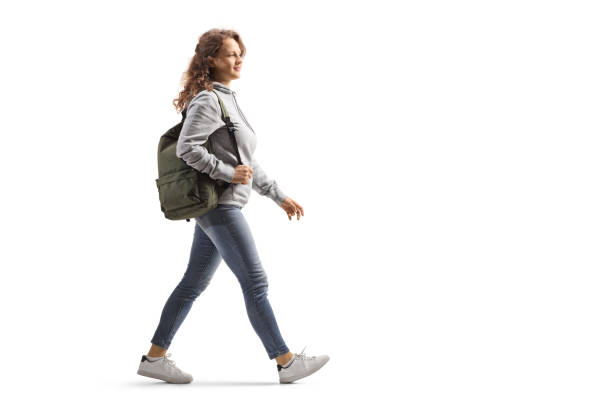without mask: (203, 18, 253, 86)
